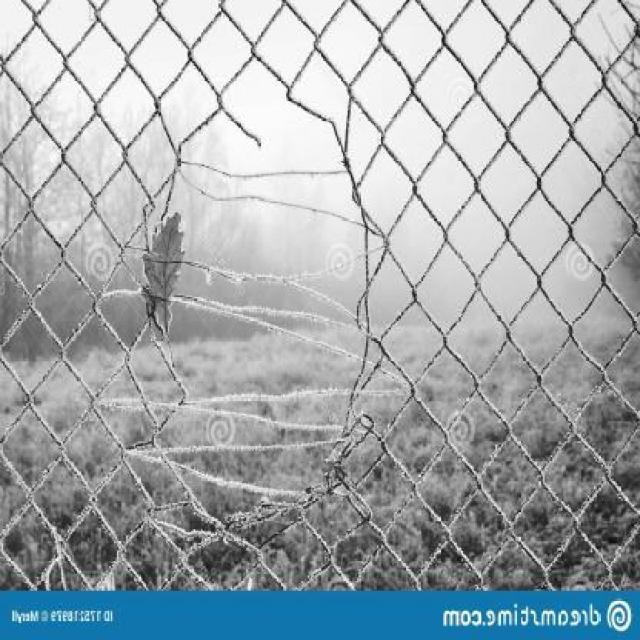fence line: (142, 109, 367, 492)
